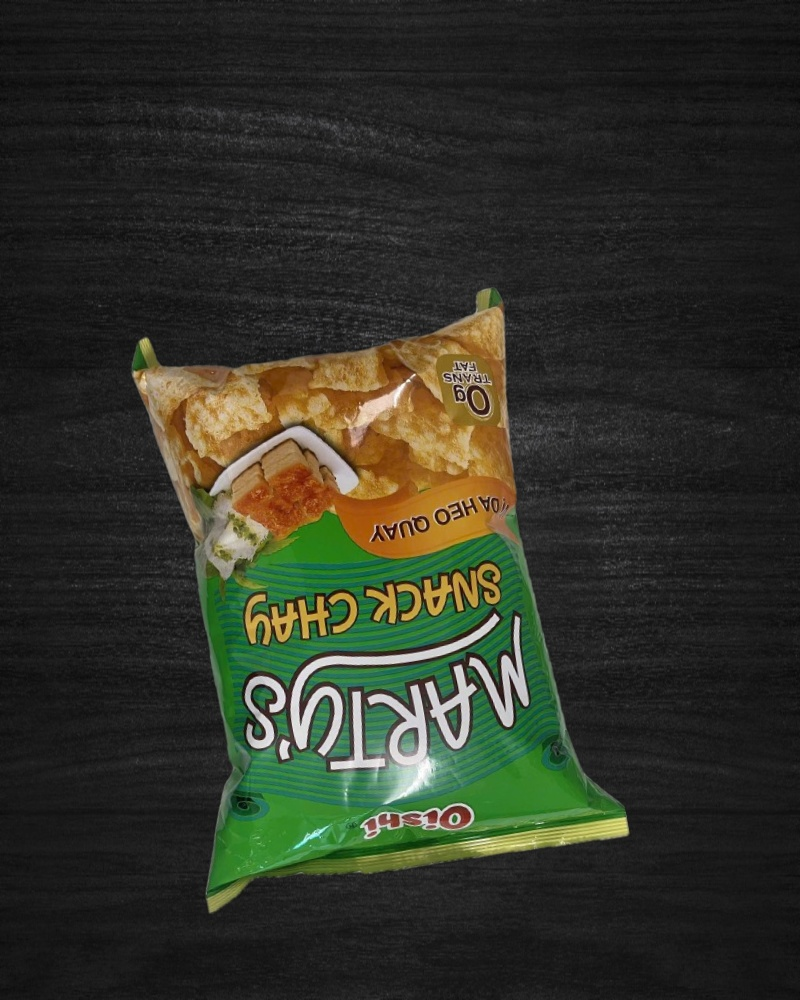Snack chay: (129, 271, 630, 911)
